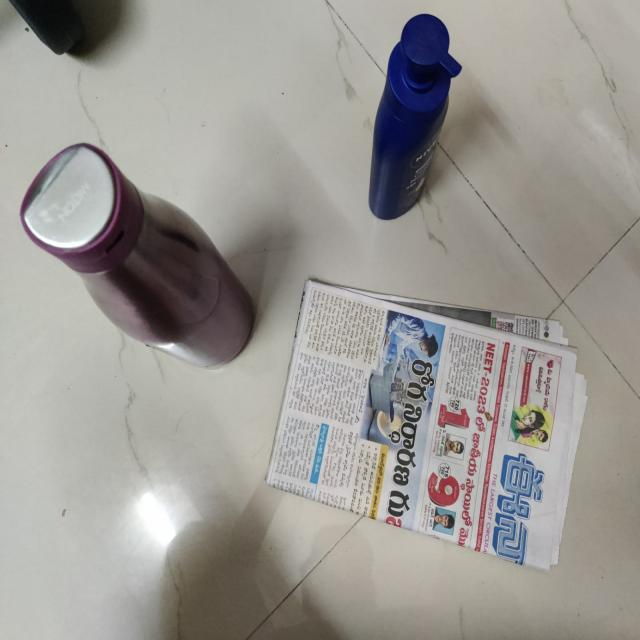metal: (13, 139, 270, 388)
paper: (282, 267, 592, 590)
plastic: (365, 19, 466, 238)
